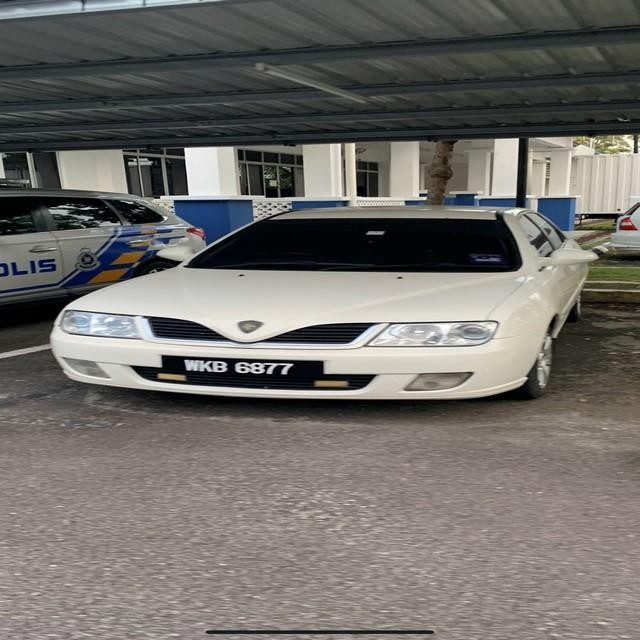License_Plate: (156, 350, 326, 393)
car: (46, 183, 615, 443)
